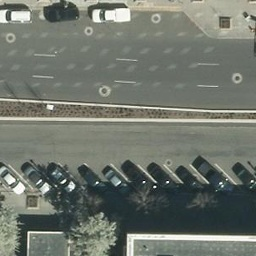car: (19, 162, 53, 196), (45, 162, 79, 196), (146, 162, 180, 196), (173, 162, 207, 196), (201, 162, 235, 196), (77, 163, 111, 197), (124, 163, 158, 197), (100, 165, 134, 199), (1, 163, 26, 197), (43, 4, 78, 24), (91, 9, 131, 26), (1, 9, 33, 25)
